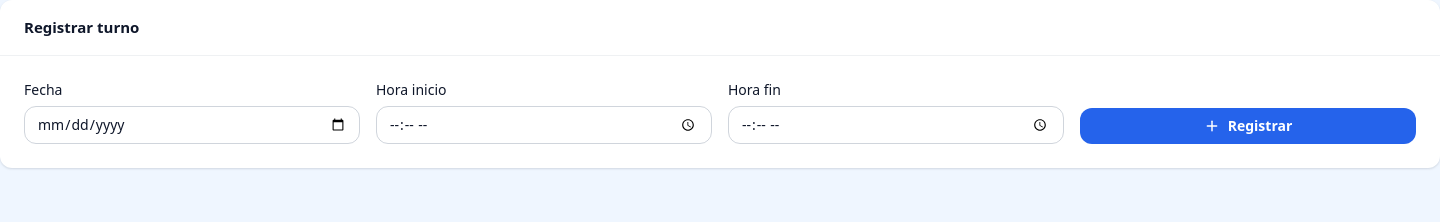
Test: TurnoForm › rechaza si la hora de fin no es posterior a la de inicio
Type "2026-08-31" into the date field labelled "Fecha" at (192, 124), box [24,106,360,144]
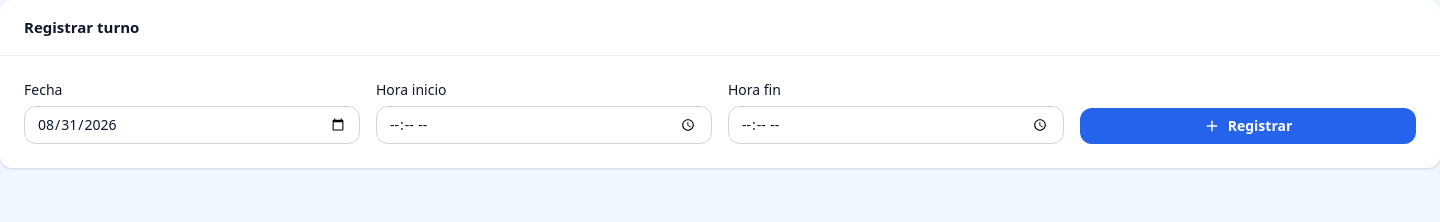
Type "14:00" into the time field labelled "Hora inicio" at (544, 125), box [376,106,712,144]
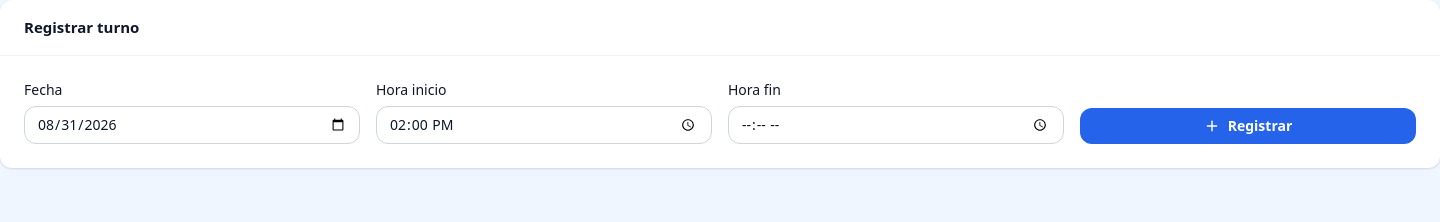
Type "10:00" into the time field labelled "Hora fin" at (896, 125), box [728,106,1064,144]
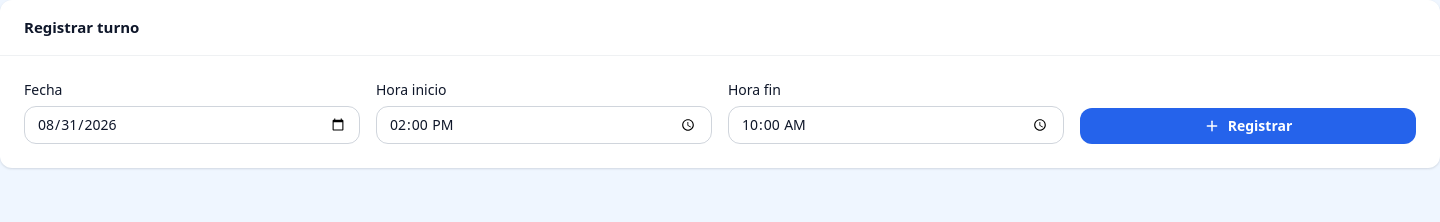
Click the button "Registrar" at (1248, 126), box [1080,108,1416,144]
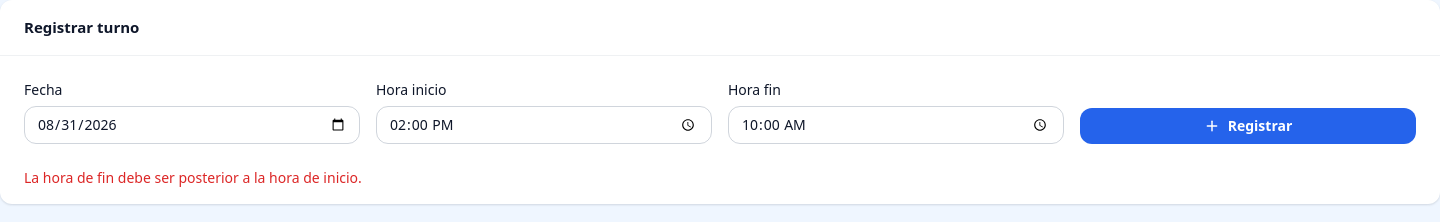
Expected: the message reads "La hora de fin debe ser posterior a la hora de inicio.", [24,168,362,187]
